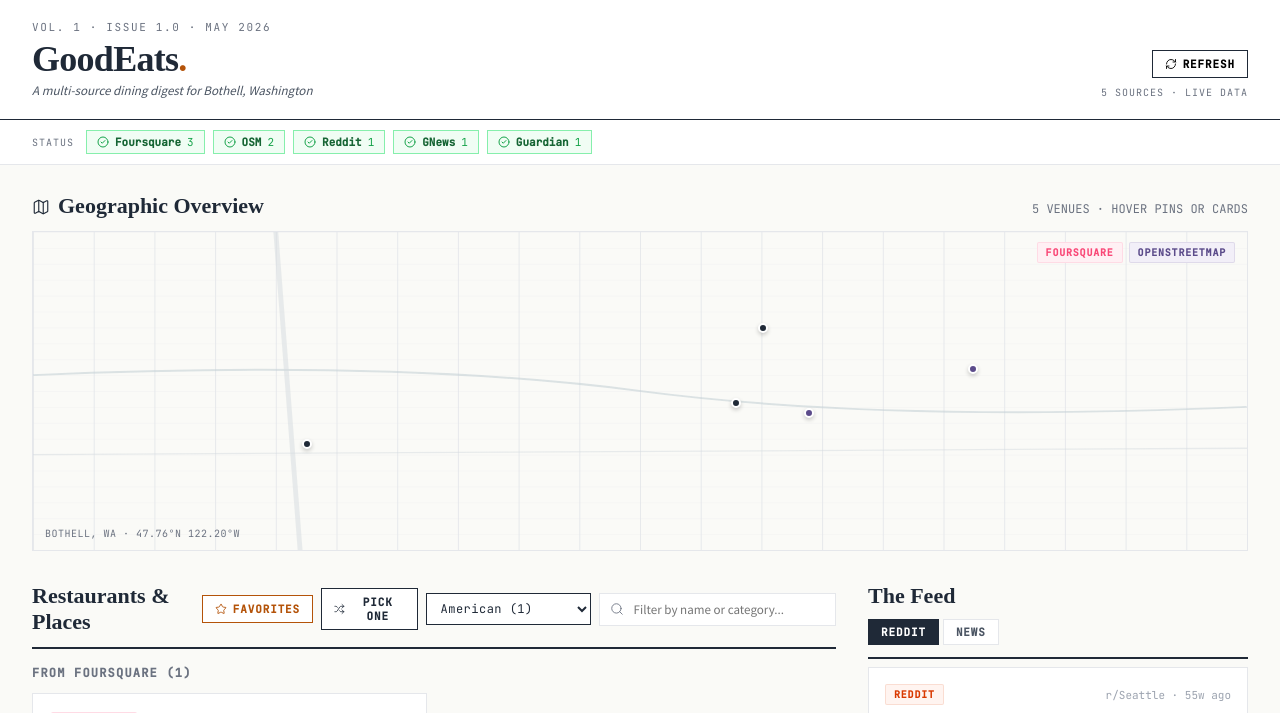
Test: GoodEats App — search filter › shows 'no places match' message when search returns nothing
The width and height of the screenshot is (1280, 713).
Type "xyzzy_nonexistent" into the field with placeholder "Filter by name or category...". click: point(728, 609)
box: [632,600,825,618]
(page scrolled)
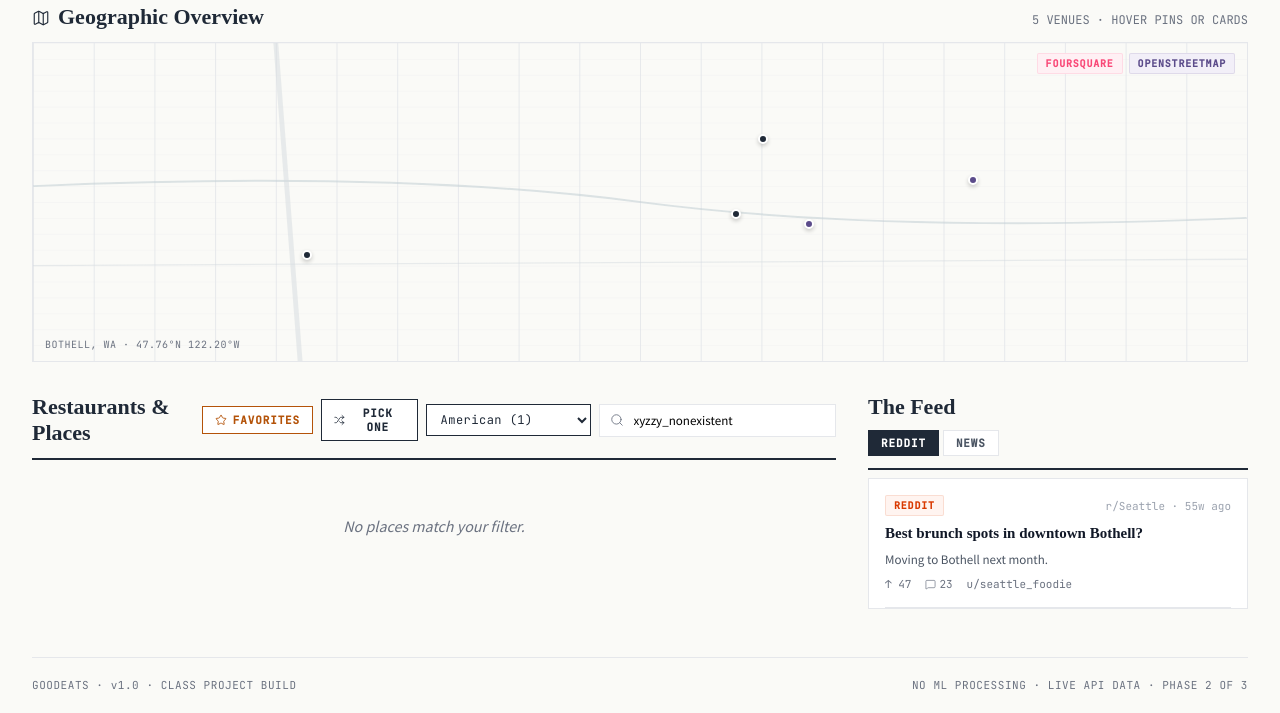
Check: the text "No places match your filter." is shown, box [343,516,525,536]
